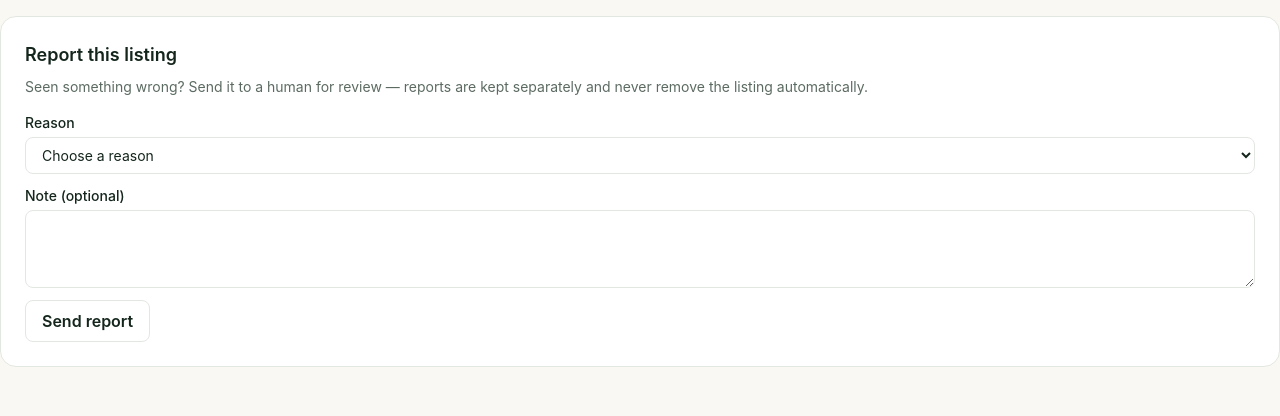
ReportListing › blocks an empty reason
The width and height of the screenshot is (1280, 416).
Click the button "Send report". click: [88, 321]
box: x1=25 y1=300 x2=150 y2=342
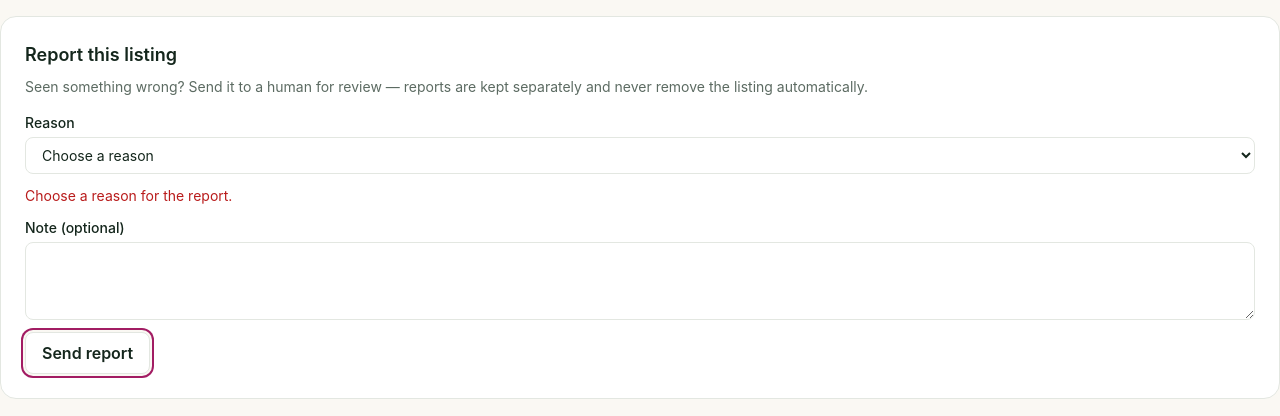
Now the message shows "Choose a reason", box x1=25 y1=187 x2=232 y2=204
